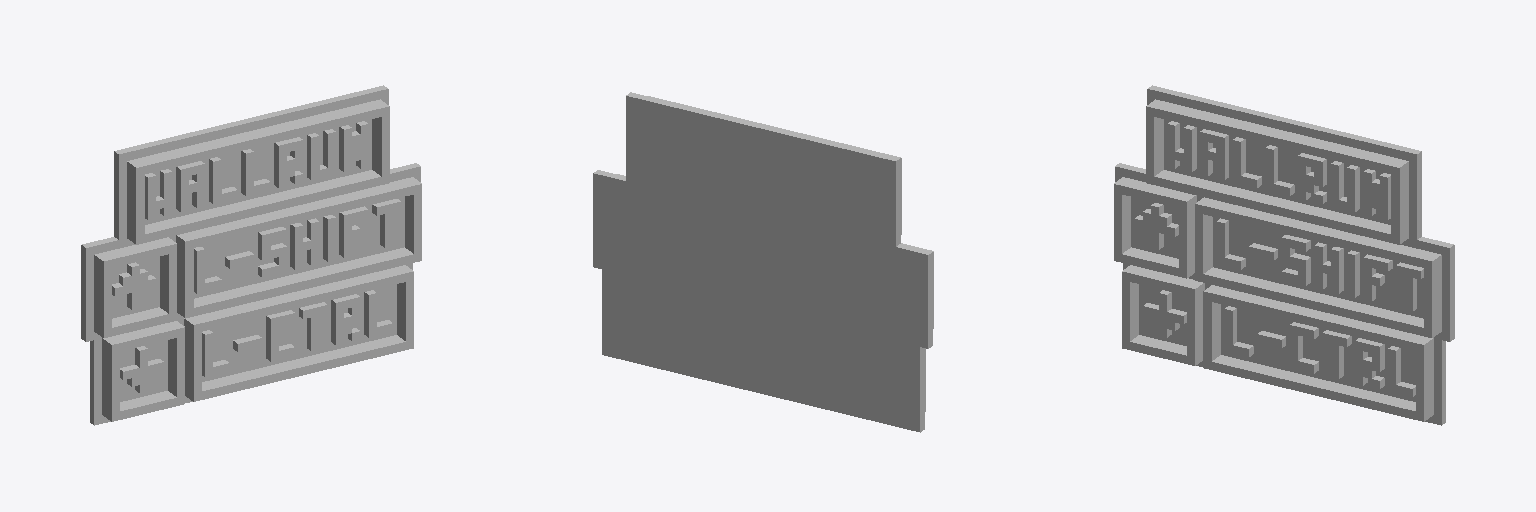
The model's file is WALLRUNCONTROLS.obj.
3 views of the same model, side by side, from view 1: azimuth 30°, elevation 25°; view 2: azimuth 150°, elevation 25°; view 3: azimuth 330°, elevation 25° (orthographic).
Parts seen in each view (by area): view 1: object 1; view 2: object 1; view 3: object 1.
Boxes of the visible parts, box(x1,y1,x2,y2) form: object 1: box(81, 85, 421, 425); object 1: box(593, 92, 933, 432); object 1: box(1114, 85, 1454, 425).
Bounding box in the file's own units: 4.1 × 3.1 × 0.3.